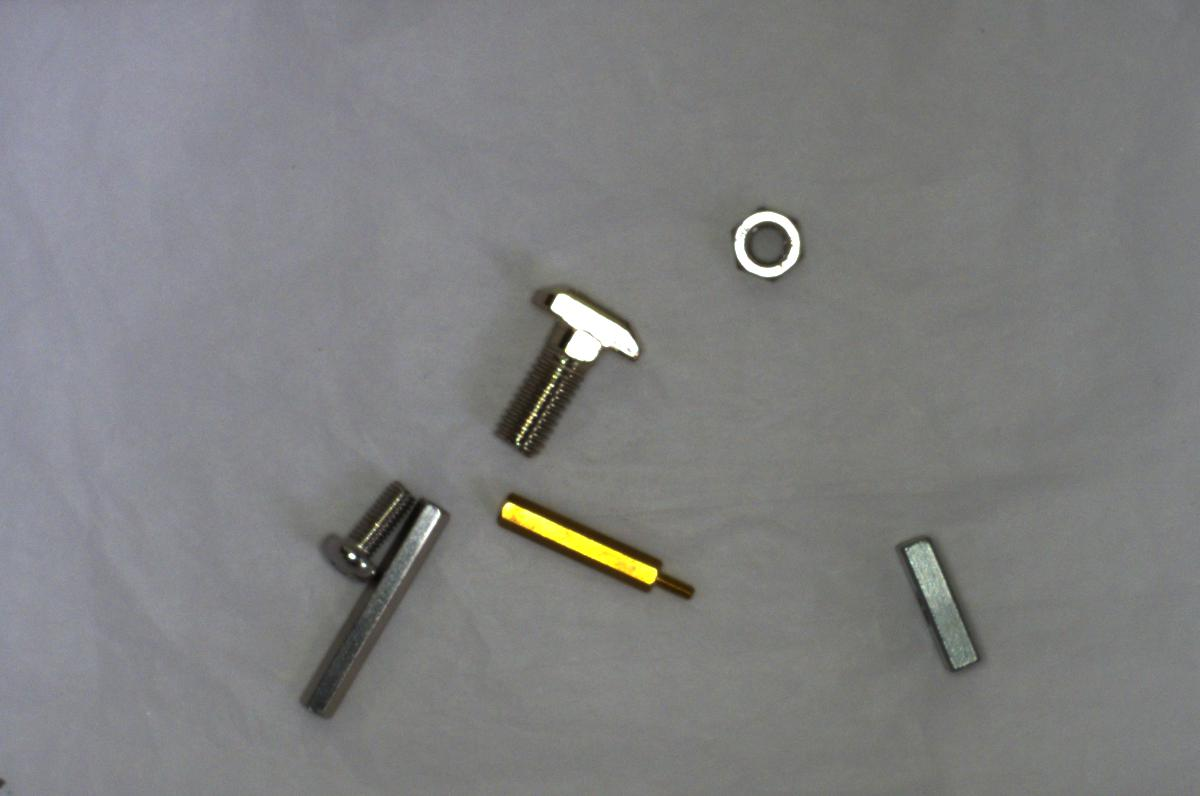Double hexagonal column: (299, 499, 452, 712)
Hexagon nut: (720, 195, 812, 290)
Hexagon pillar: (487, 489, 706, 605)
Rectangular nut: (898, 529, 985, 675)
Round head screw: (317, 472, 413, 588)
T-shaped screw: (490, 274, 648, 462)
